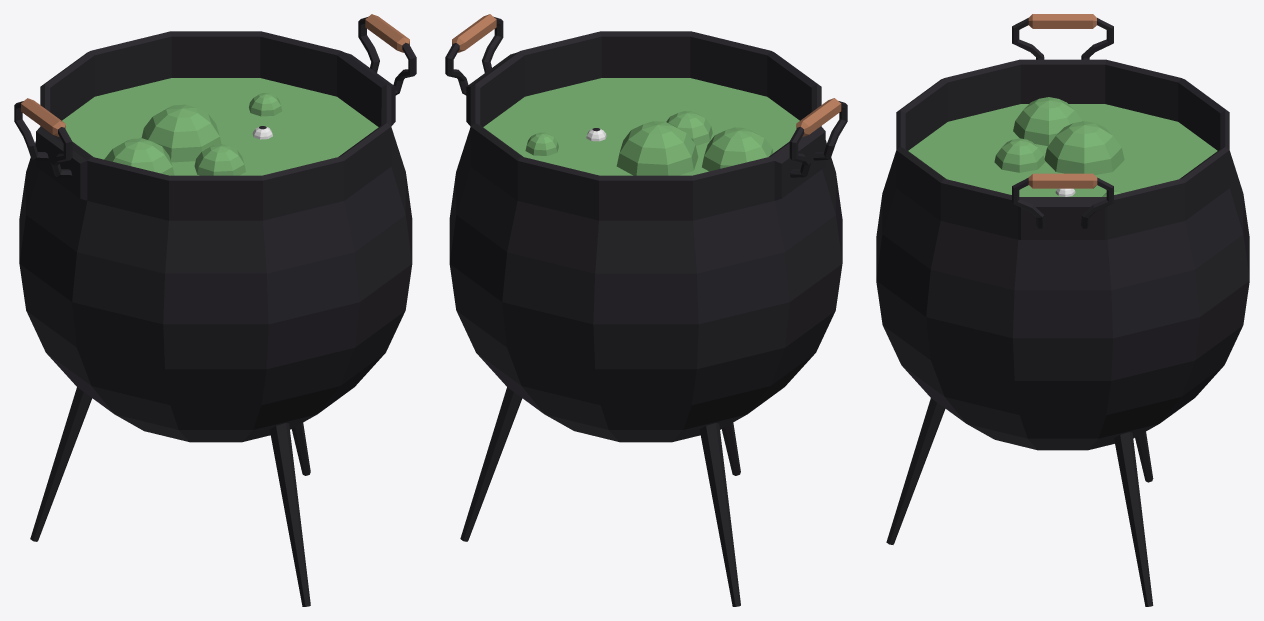
The model's file is King Pot.fbx.
3 renders of one model, left to right at view 1: azimuth 30°, elevation 25°; view 2: azimuth 150°, elevation 25°; view 3: azimuth 270°, elevation 25°, orthographic. The views are drawn at different scales.
Parts seen in each view (by area): view 1: King Pot; view 2: King Pot; view 3: King Pot.
Part boxes in pixels (x1,y1,x2,y2): King Pot: [14, 14, 416, 606]; King Pot: [445, 14, 847, 606]; King Pot: [876, 14, 1249, 606].
Bounding box in the file's own units: 64.37 × 81.43 × 61.27.
